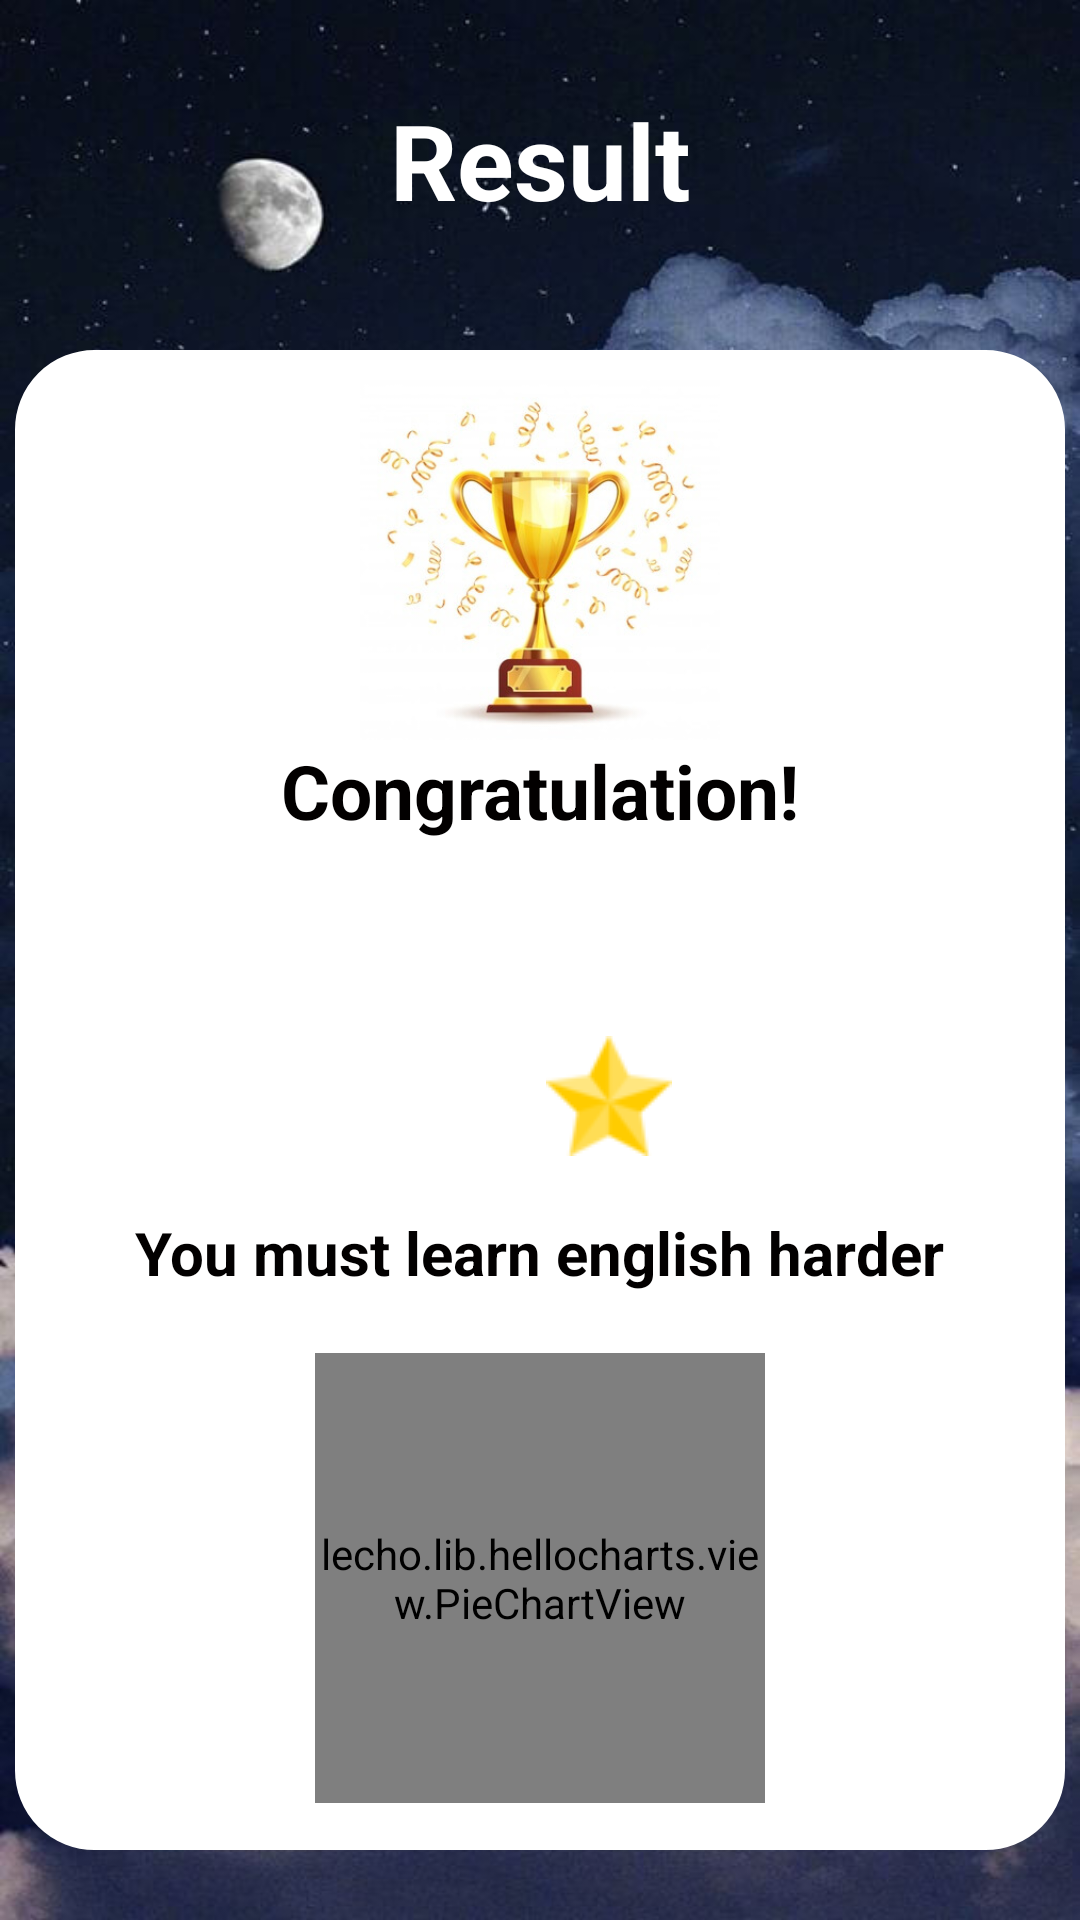

Screen size 1080w x 1920h. Icon name, then its box in pixels as [left=x1, top=y1, right=x2, bottom=y2]:
goldencup: [left=380, top=402, right=695, bottom=722]
star: [left=546, top=1036, right=672, bottom=1156]
